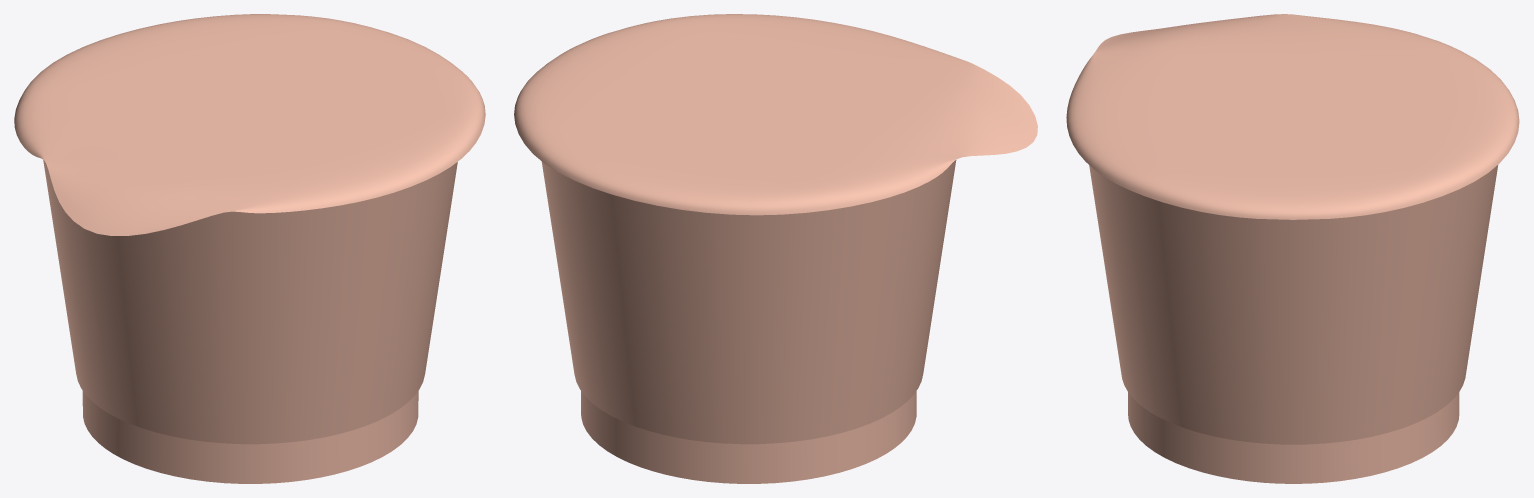
The model's file is 102_ヨーグルトやゼリーのカップ.glb.
3 views of the same model, side by side, from view 1: azimuth 30°, elevation 25°; view 2: azimuth 150°, elevation 25°; view 3: azimuth 270°, elevation 25° (orthographic).
Visible parts, largest first — view 1: body, ふた; view 2: body, ふた; view 3: body, ふた.
Boxes of the visible parts, box(x1,y1,x2,y2) form: body: box(43, 160, 457, 483); ふた: box(14, 14, 485, 235); body: box(541, 160, 956, 483); ふた: box(514, 14, 1037, 215); body: box(1089, 165, 1498, 483); ふた: box(1066, 14, 1519, 219).
Size of the model in its own units: 0.0741 by 0.0507 by 0.0683.
